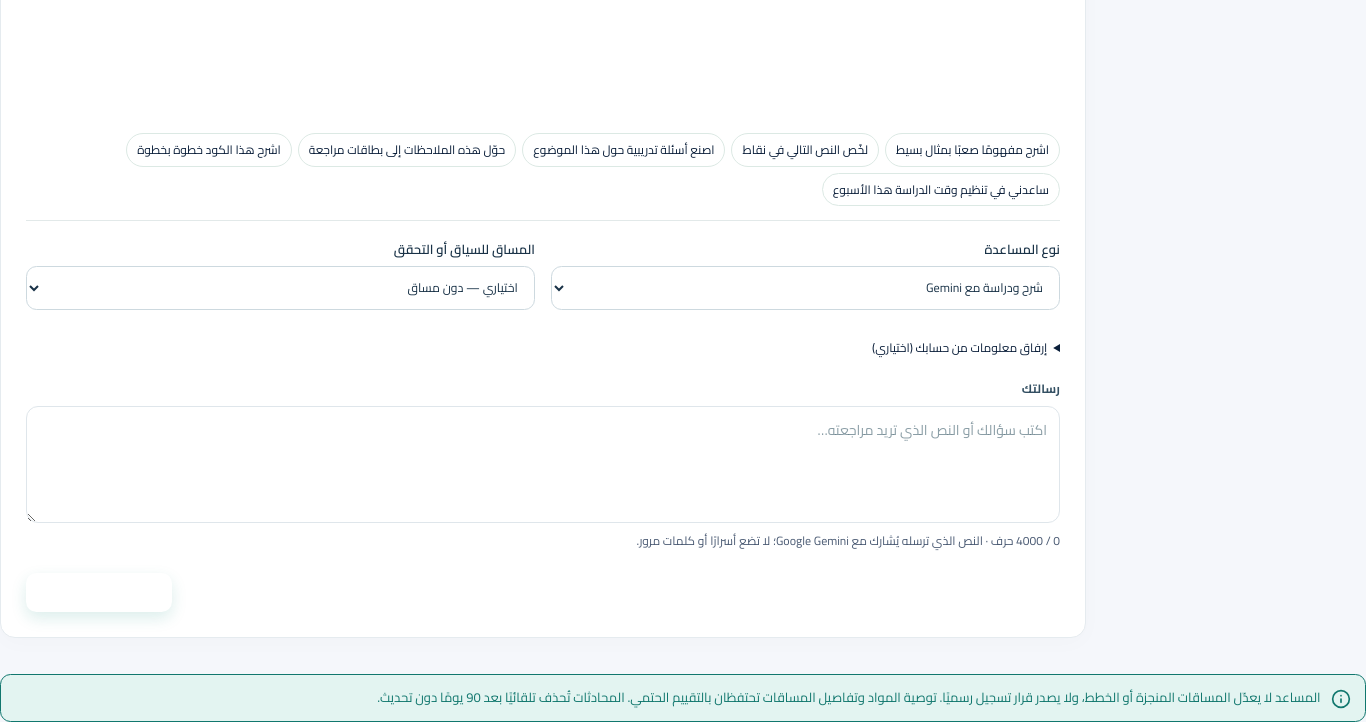
Test case: sends one real chat payload then renders stored response and copy control
(page scrolled)
In the text box labelled "رسالتك": (543, 464) x1=26 y1=406 x2=1060 y2=523, type "اشرح الاستدعاء الذاتي"
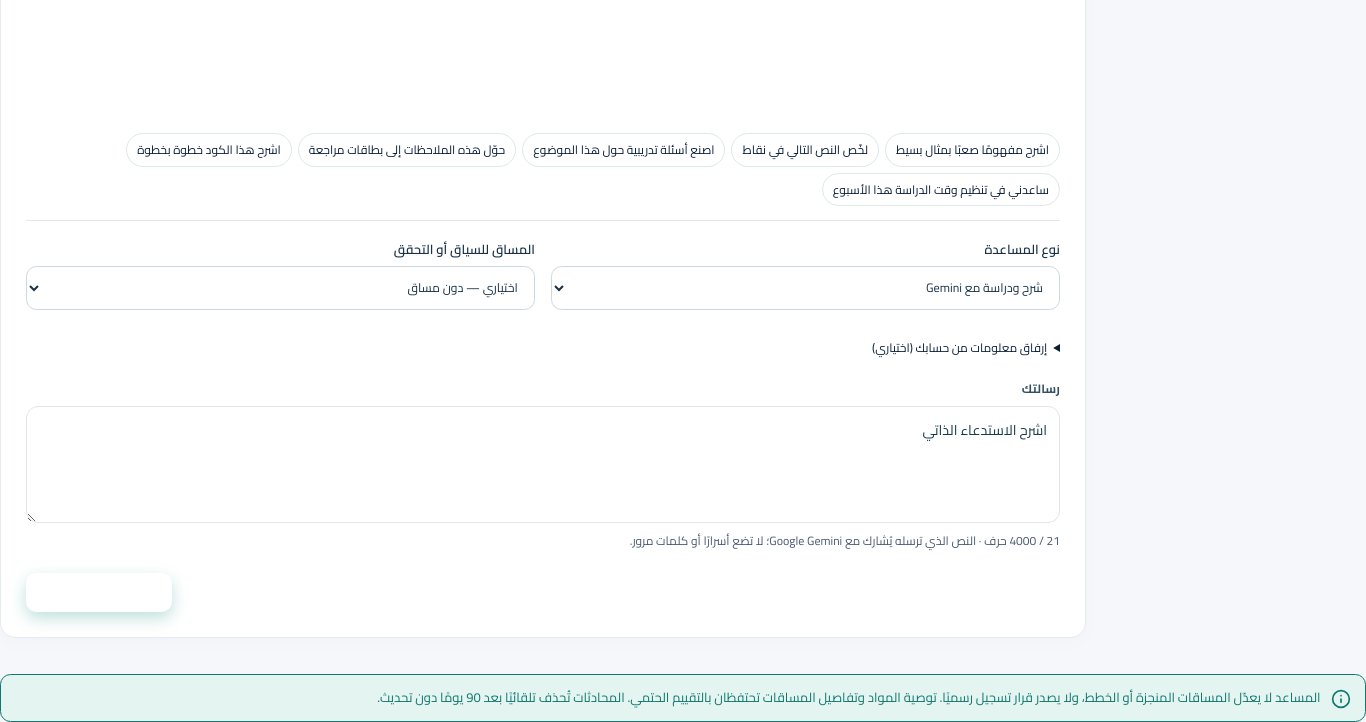
Click the button "إرسال إلى Gemini": (99, 592) x1=26 y1=573 x2=172 y2=612
(page scrolled)
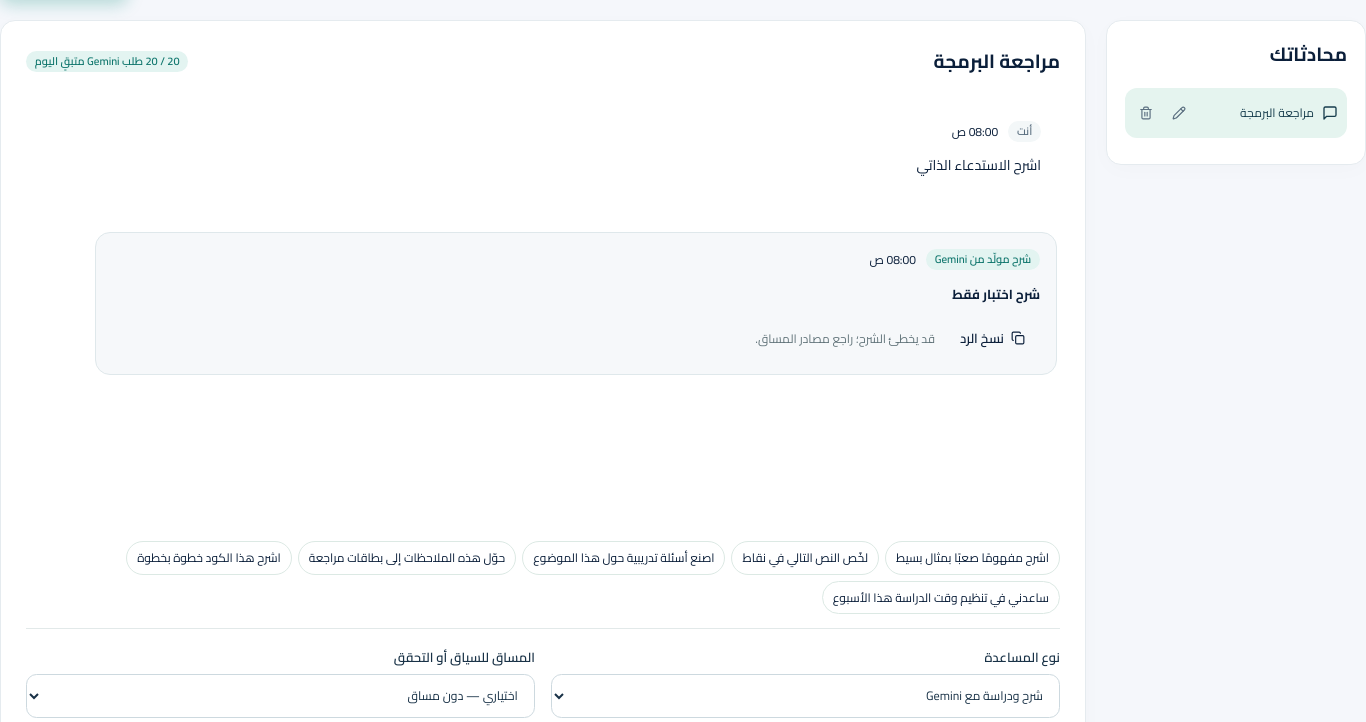
Expected: the text "شرح اختبار فقط" is shown, x1=952 y1=282 x2=1040 y2=306
Expected: the button "نسخ الرد" is shown, x1=945 y1=319 x2=1040 y2=358
